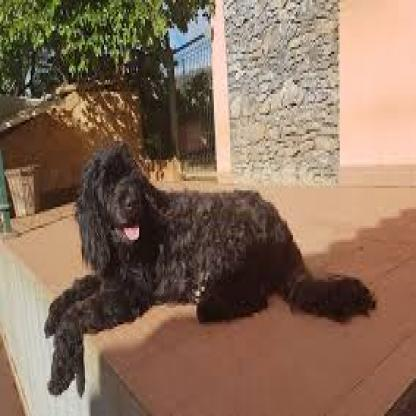portuguese water dog: (36, 115, 389, 390)
